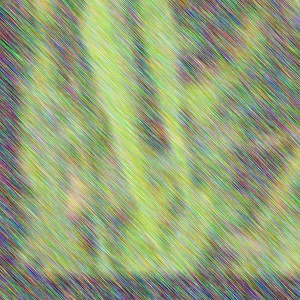Brown_Spot: (154, 110, 175, 133)
